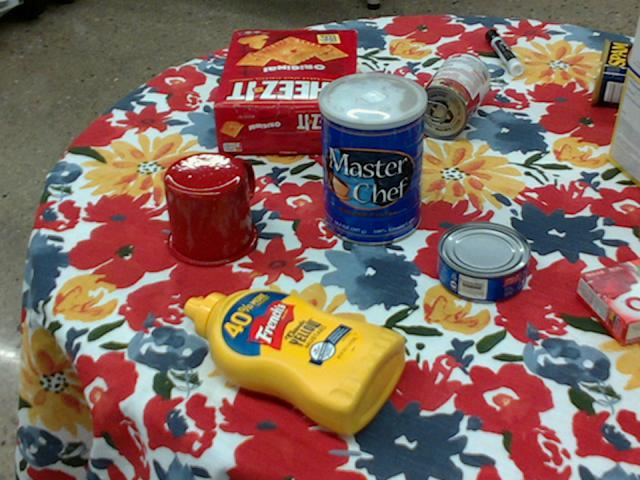cracker_box: (213, 29, 360, 153)
gelatin_box: (579, 259, 639, 345)
large_marker: (488, 29, 524, 74)
master_chef_can: (317, 71, 426, 245)
mug: (162, 151, 259, 266)
mustard_bottle: (184, 287, 407, 434)
potted_meat_can: (591, 36, 639, 107)
sugar_box: (608, 21, 639, 186)
tomato_soup_can: (413, 52, 491, 139)
tuna_fish_can: (439, 221, 533, 303)
